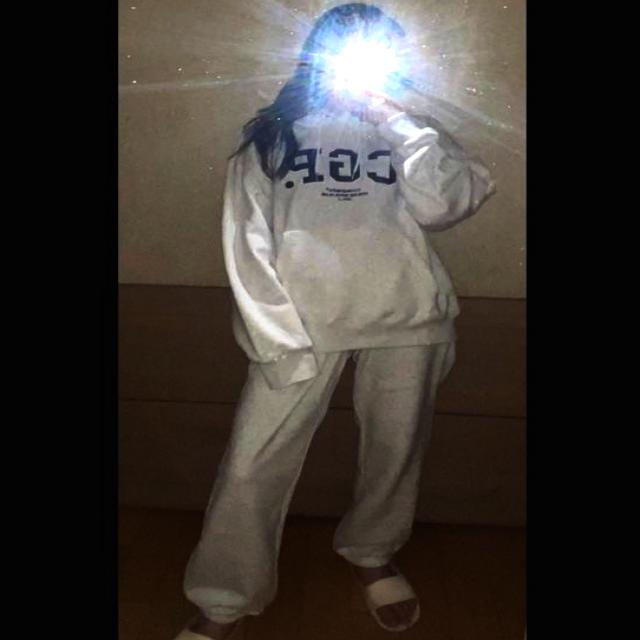mtm: (225, 0, 506, 373)
trainingpants: (183, 292, 453, 620)
